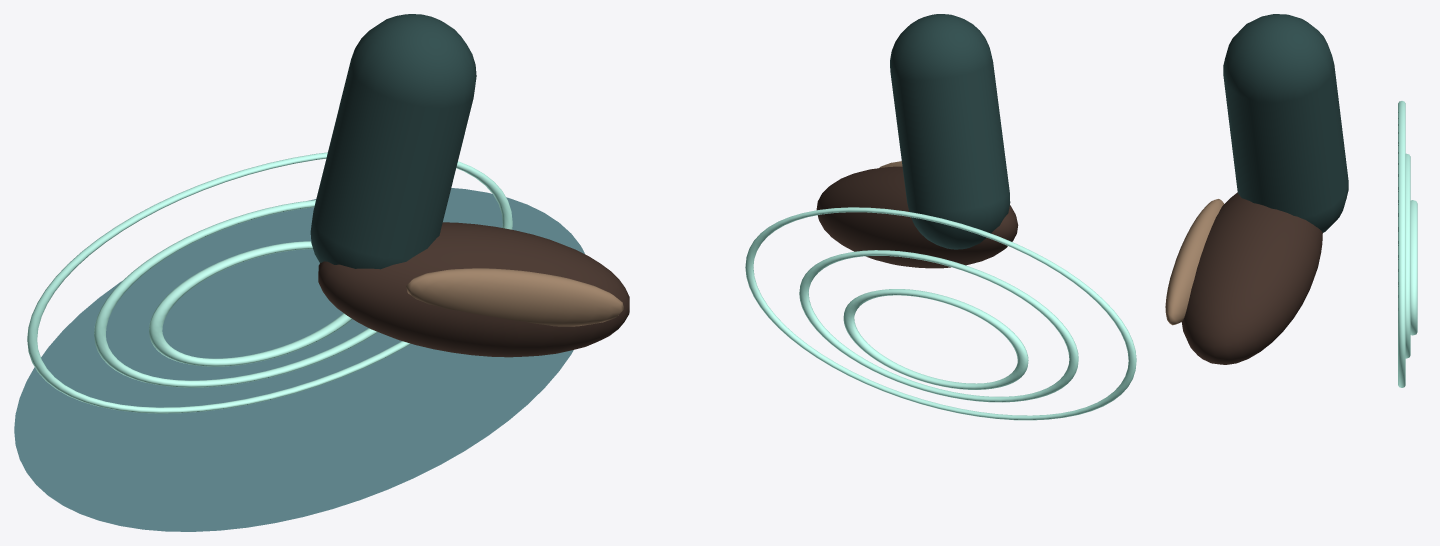
Rendered from aic-153799-v1.glb.
3 views of the same model, side by side, from view 1: azimuth 30°, elevation 25°; view 2: azimuth 150°, elevation 25°; view 3: azimuth 270°, elevation 25° (orthographic). The views are drawn at different scales.
Visible parts, largest first — view 1: RiverReflection, Ankle, SteppingShoe, ConcentricRipples, ShoeHighlight; view 2: Ankle, ConcentricRipples, SteppingShoe; view 3: Ankle, SteppingShoe, ConcentricRipples, ShoeHighlight.
Boxes of the visible parts, x1,y1,x2,y2 form: RiverReflection: (14, 188, 584, 531); Ankle: (310, 14, 476, 269); SteppingShoe: (318, 222, 629, 357); ConcentricRipples: (27, 152, 512, 413); ShoeHighlight: (406, 268, 624, 326); Ankle: (890, 14, 1010, 249); ConcentricRipples: (745, 207, 1136, 420); SteppingShoe: (816, 166, 1018, 268); Ankle: (1223, 14, 1348, 232); SteppingShoe: (1181, 192, 1322, 364); ConcentricRipples: (1398, 101, 1417, 387); ShoeHighlight: (1165, 199, 1223, 325).
Bounding box in the file's own units: 1.34 × 1.22 × 0.6056.
